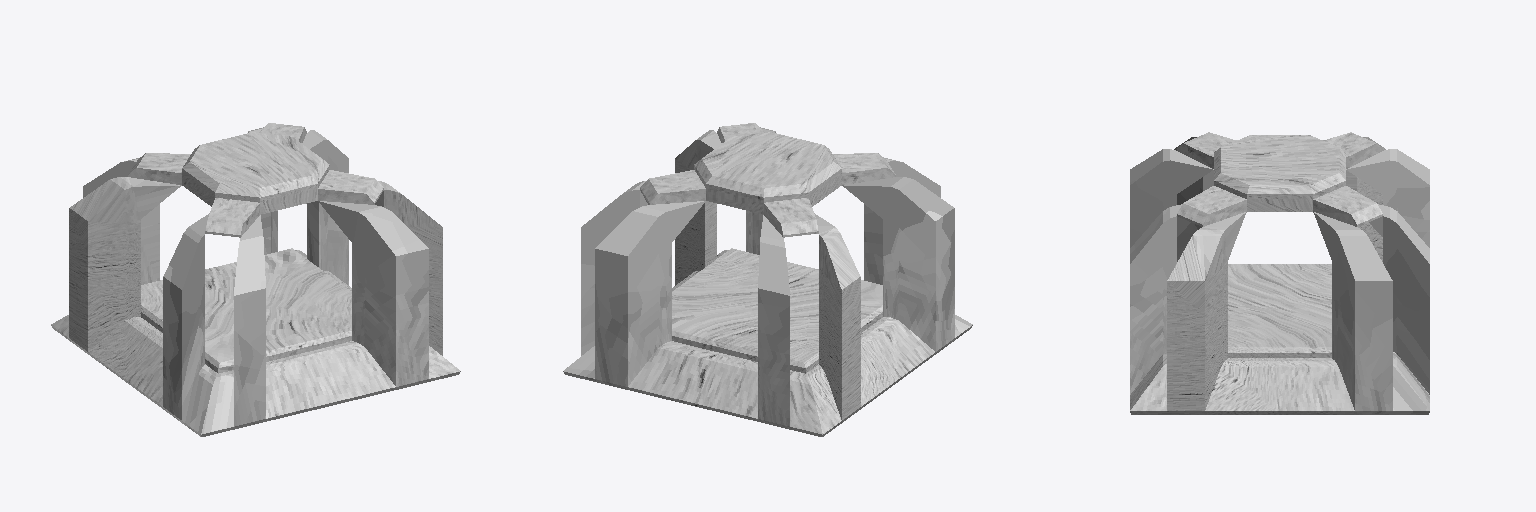
3 renders of one model, left to right at view 1: azimuth 30°, elevation 25°; view 2: azimuth 150°, elevation 25°; view 3: azimuth 270°, elevation 25°, orthographic.
Parts seen in each view (by area): view 1: Cube; view 2: Cube; view 3: Cube.
Part boxes in pixels (left/top/right/bottom): Cube: left=51, top=123, right=460, bottom=436; Cube: left=563, top=123, right=972, bottom=436; Cube: left=1130, top=132, right=1429, bottom=414.
Bounding box in the file's own units: 6.61 × 4.65 × 6.61.
1 materials, 1 textured.